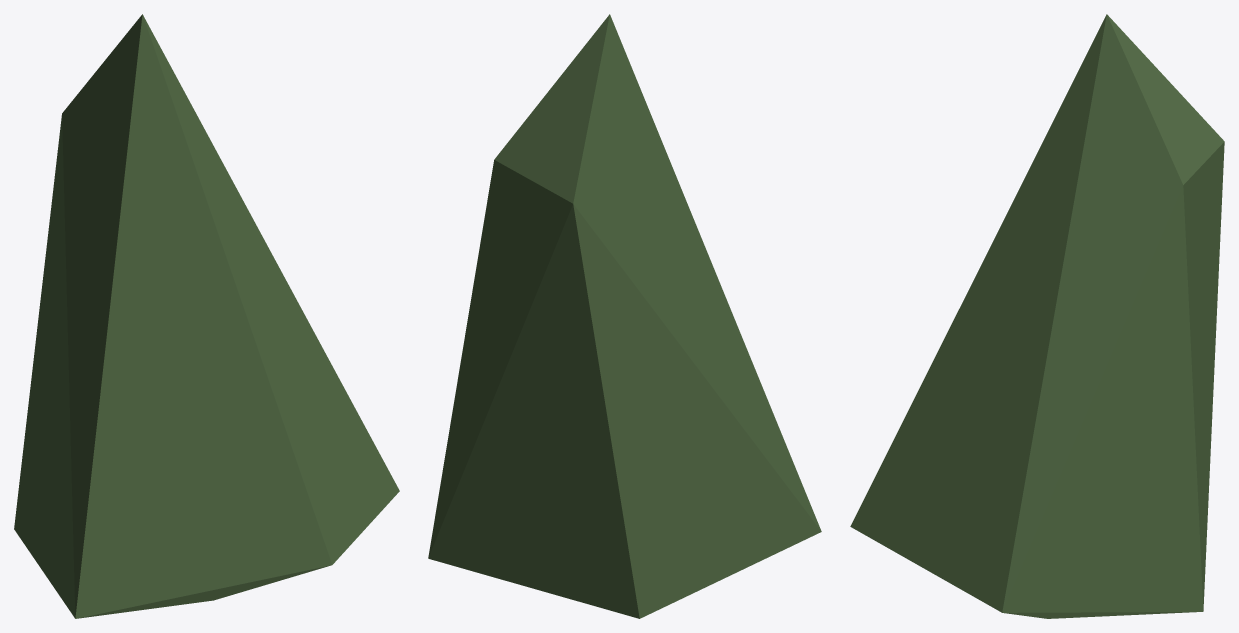
The model's file is PineTree_3.lod4.glb.
The picture shows the model from 3 angles, left to right: view 1: azimuth 30°, elevation 25°; view 2: azimuth 150°, elevation 25°; view 3: azimuth 270°, elevation 25°; orthographic projection. The views are drawn at different scales.
Parts seen in each view (by area): view 1: PineTree_3; view 2: PineTree_3; view 3: PineTree_3.
Part boxes in pixels (x1,y1,x2,y2): PineTree_3: (14, 14, 399, 618); PineTree_3: (428, 14, 821, 618); PineTree_3: (850, 14, 1224, 618).
Bounding box in the file's own units: 2.11 × 3.39 × 1.97.
